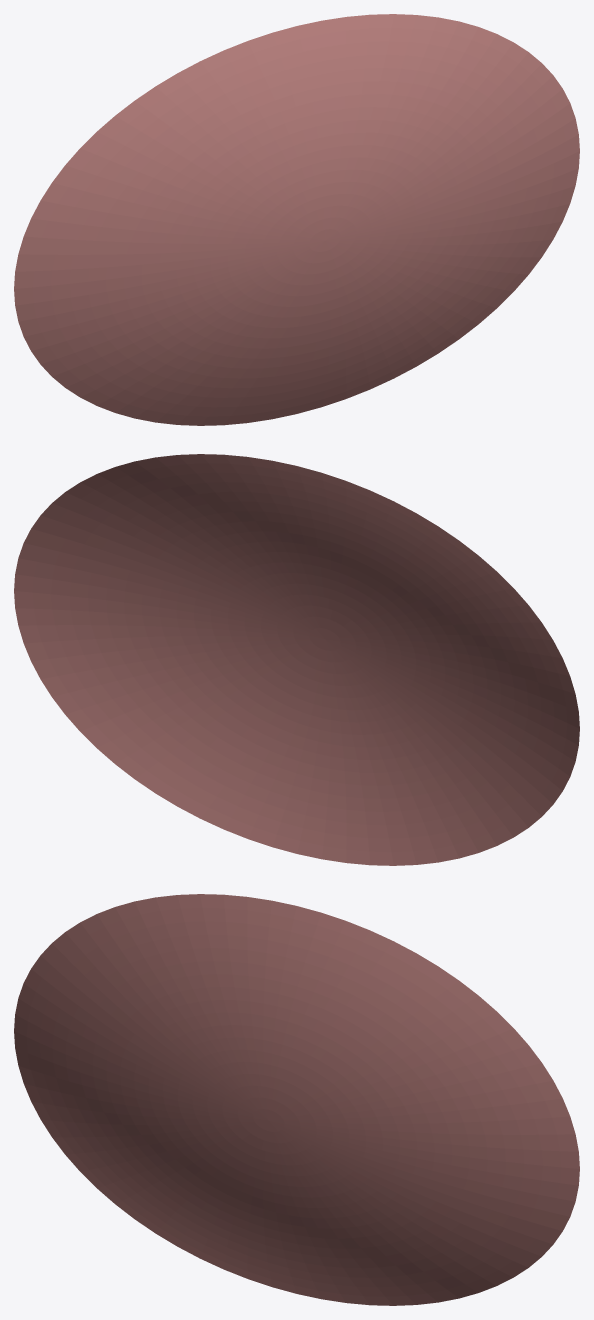
Rendered from diaphragm.glb.
3 views of the same model, one above another, from view 1: azimuth 30°, elevation 25°; view 2: azimuth 150°, elevation 25°; view 3: azimuth 330°, elevation 25° (orthographic).
Parts seen in each view (by area): view 1: diaphragm; view 2: diaphragm; view 3: diaphragm.
Boxes of the visible parts, <box> form: diaphragm: <box>14,14,579,425</box>; diaphragm: <box>14,454,579,865</box>; diaphragm: <box>14,894,579,1305</box>.
Size of the model in its own units: 0.29 by 0.19 by 0.025.
